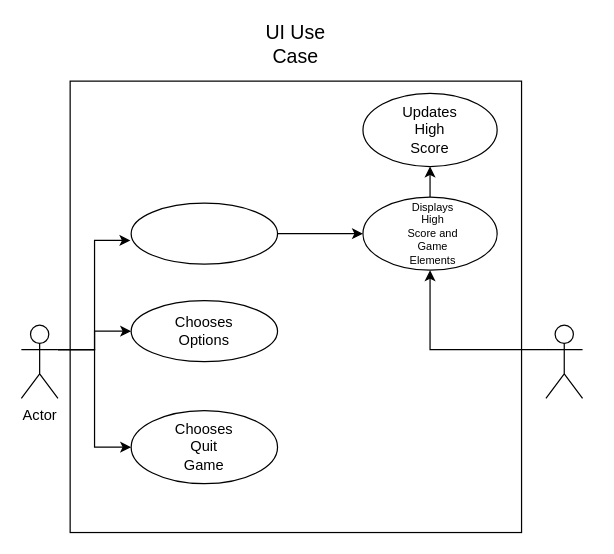
This 614x554 diagram has some shape labels left out. The centre of each missing label's shape, as x and y in pixels:
Chooses Play Game: point (204, 233)
Program: point (564, 361)
